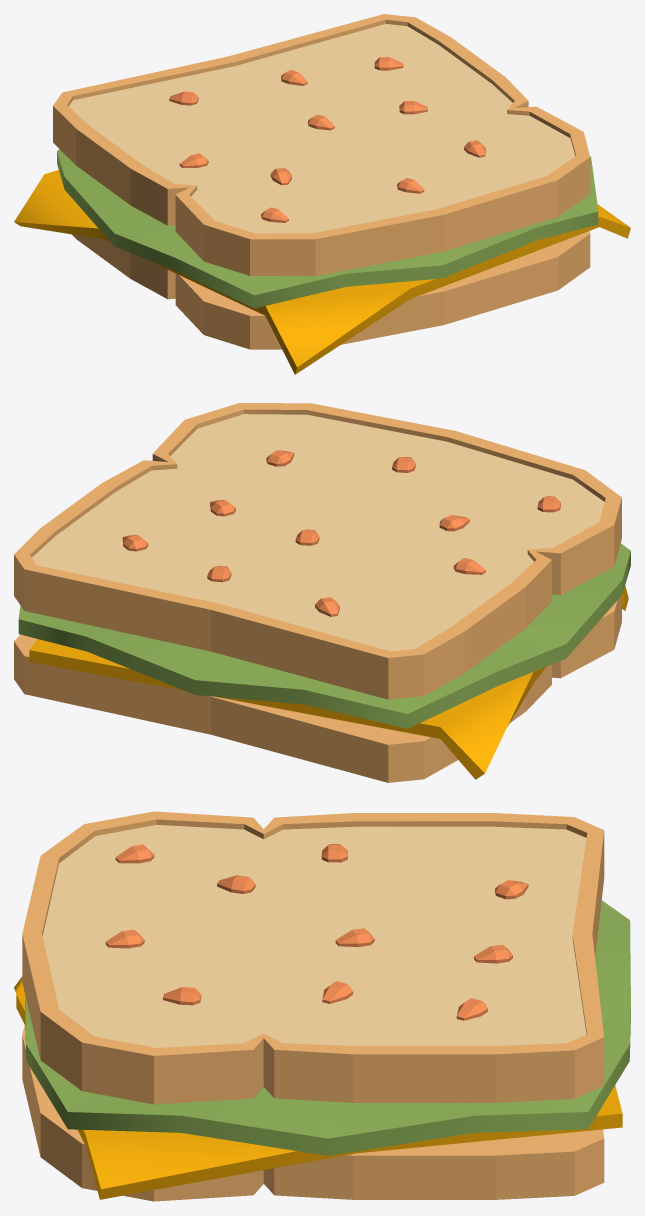
File: PW_toast_cheese.fbx
The picture shows the model from 3 angles, top to bottom: view 1: azimuth 30°, elevation 25°; view 2: azimuth 150°, elevation 25°; view 3: azimuth 270°, elevation 25°; orthographic projection. The views are drawn at different scales.
Parts seen in each view (by area): view 1: sesame_bread, leaf, flat_bread, cheese; view 2: sesame_bread, leaf, flat_bread, cheese; view 3: sesame_bread, leaf, flat_bread, cheese.
Part boxes in pixels (x1,y1,x2,y2): sesame_bread: (53,14,590,276); leaf: (57,149,598,308); flat_bread: (72,231,590,349); cheese: (14,170,630,374); sesame_bread: (14,403,621,699); leaf: (18,543,630,728); flat_bread: (14,595,621,782); cheese: (29,585,628,779); sesame_bread: (22,811,604,1104); leaf: (25,900,630,1155); flat_bread: (22,1025,604,1201); cheese: (14,976,622,1199).
Size of the model in its own units: 39.94 by 10.86 by 36.39.
1 material, 1 textured.
